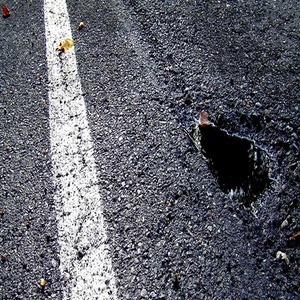pothole: (177, 111, 289, 223)
